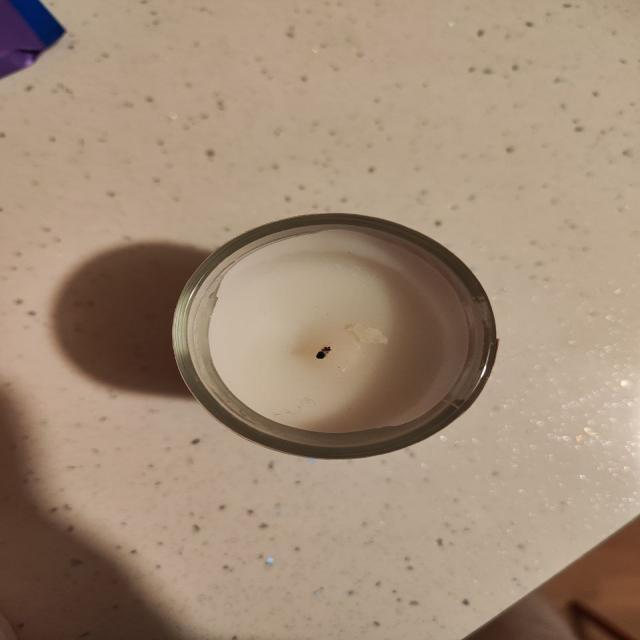Circle: (170, 211, 502, 462)
